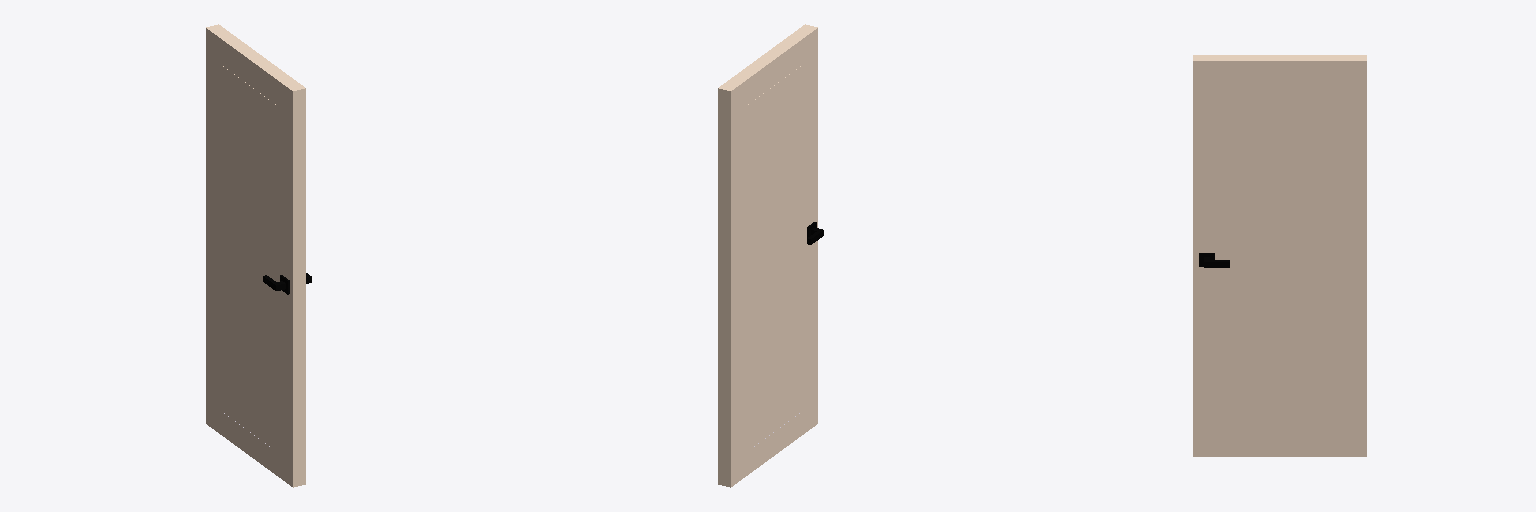
Rendered from door803_beige.obj.
3 views of the same model, side by side, from view 1: azimuth 30°, elevation 25°; view 2: azimuth 150°, elevation 25°; view 3: azimuth 270°, elevation 25° (orthographic).
Parts seen in each view (by area): view 1: Cube; view 2: Cube; view 3: Cube.
Part boxes in pixels (x1,y1,x2,y2): Cube: (206, 24, 311, 487); Cube: (718, 24, 823, 487); Cube: (1193, 55, 1366, 456).
Bounding box in the file's own units: 0.1899 × 2 × 0.7999.